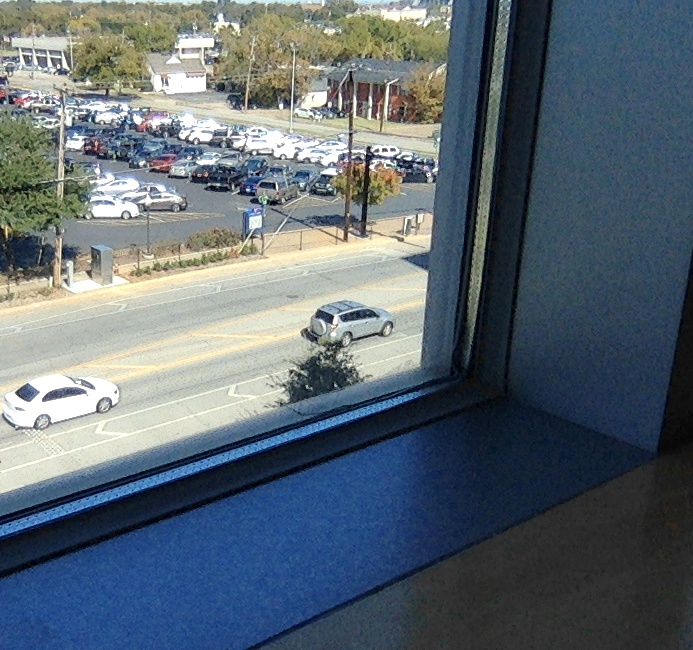car: (300, 300, 393, 350)
